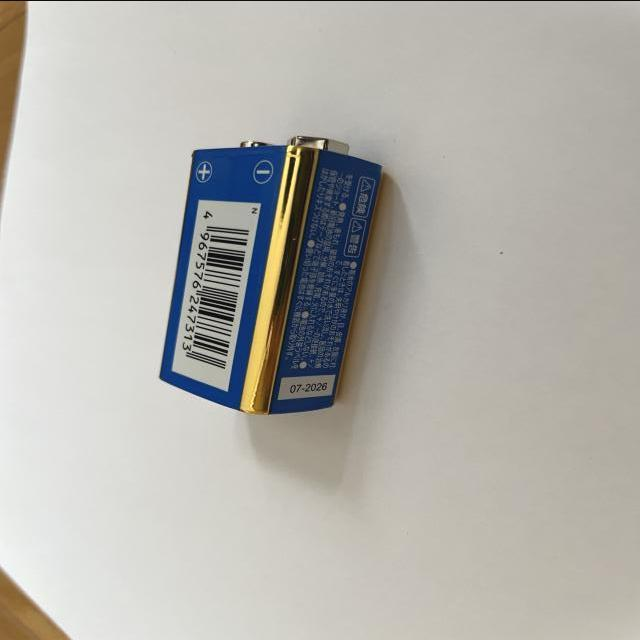9V: (158, 134, 384, 415)
